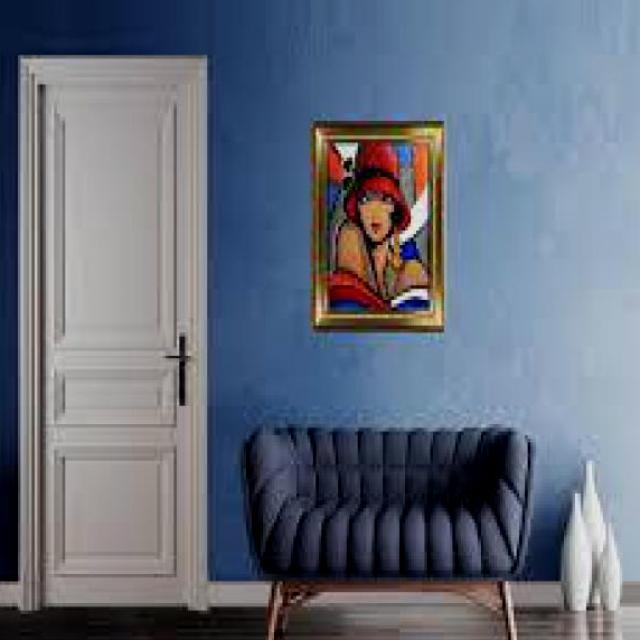door: (23, 54, 207, 610)
